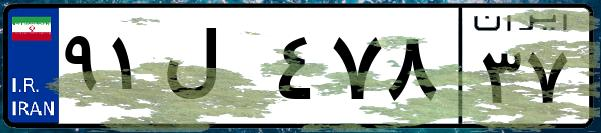1: (110, 28, 158, 98)
3: (475, 38, 525, 113)
4: (270, 28, 330, 110)
7: (330, 28, 385, 110), (525, 38, 570, 115)
8: (385, 28, 445, 110)
9: (57, 26, 110, 100)
ل: (158, 20, 270, 120)
